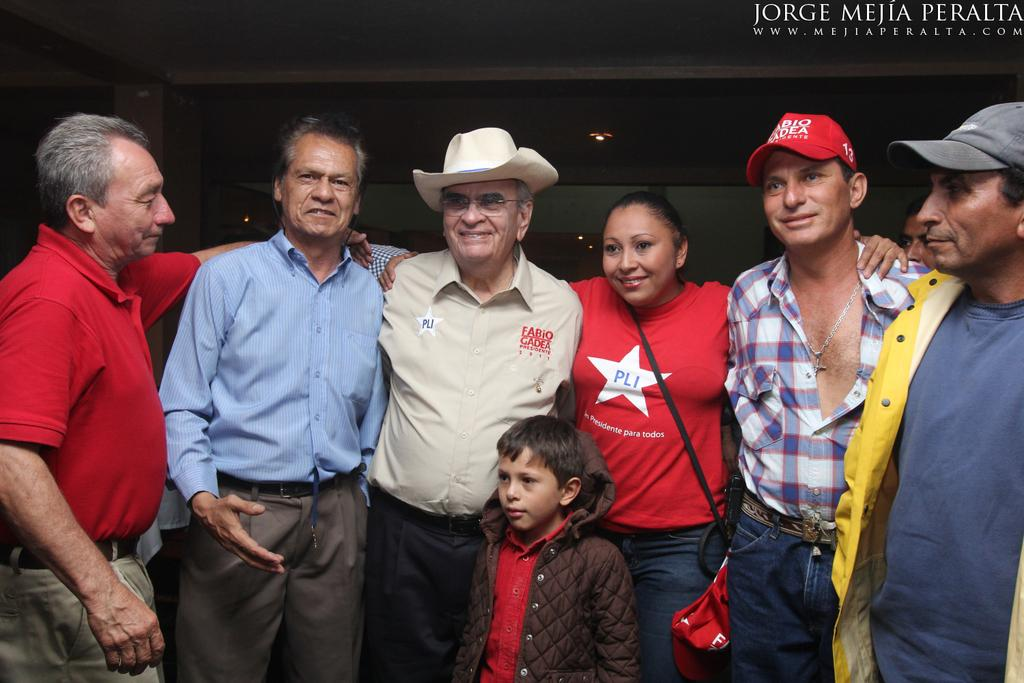Hat: (413, 124, 558, 219), (884, 98, 1022, 164), (748, 112, 858, 183)
